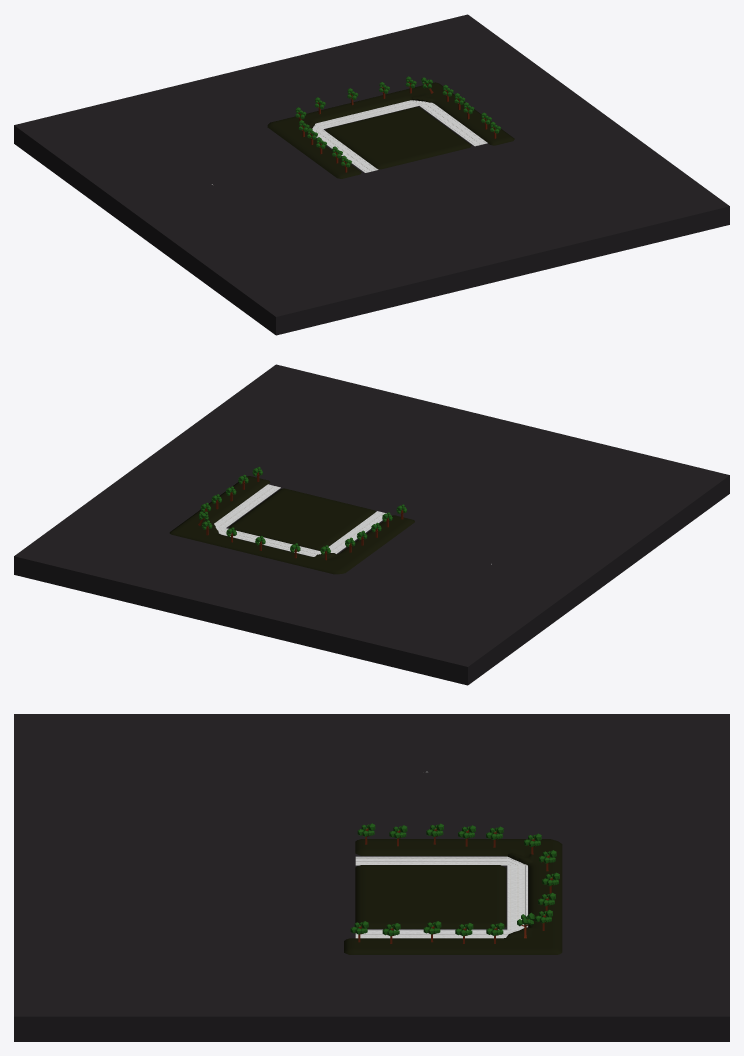
The picture shows the model from 3 angles, top to bottom: view 1: azimuth 30°, elevation 25°; view 2: azimuth 150°, elevation 25°; view 3: azimuth 270°, elevation 25°; orthographic projection. The views are drawn at different scales.
Visible parts, largest first — view 1: Baseplate1, Terrain6, Terrain9, Terrain3, Terrain7, Part13, Part20, Part6; view 2: Baseplate1, Terrain6, Terrain9, Terrain3, Terrain4, Part20; view 3: Baseplate1, Terrain6, Terrain3, Terrain9, Part6, Part13, Terrain7, Part20, Terrain4.
Boxes of the visible parts, left/top/right/bottom form: Baseplate1: left=14, top=14, right=729, bottom=335; Terrain6: left=307, top=88, right=484, bottom=165; Terrain9: left=267, top=116, right=356, bottom=174; Terrain3: left=420, top=84, right=505, bottom=135; Terrain7: left=372, top=136, right=495, bottom=169; Part13: left=316, top=101, right=417, bottom=128; Part20: left=421, top=103, right=486, bottom=145; Part6: left=314, top=129, right=376, bottom=172; Baseplate1: left=14, top=364, right=729, bottom=685; Terrain6: left=193, top=486, right=371, bottom=561; Terrain9: left=307, top=519, right=410, bottom=572; Terrain3: left=172, top=482, right=257, bottom=533; Terrain4: left=189, top=534, right=305, bottom=566; Part20: left=214, top=484, right=279, bottom=527; Baseplate1: left=14, top=714, right=729, bottom=1041; Terrain6: left=372, top=862, right=550, bottom=938; Terrain3: left=372, top=938, right=550, bottom=954; Terrain9: left=372, top=839, right=550, bottom=862; Part6: left=355, top=857, right=507, bottom=864; Part13: left=509, top=865, right=525, bottom=929; Terrain7: left=346, top=865, right=371, bottom=939; Part20: left=355, top=930, right=507, bottom=937; Terrain4: left=551, top=862, right=562, bottom=940.
Size of the model in its own units: 512 by 40.04 by 512.
Materials: 8 (4 with a texture image).
